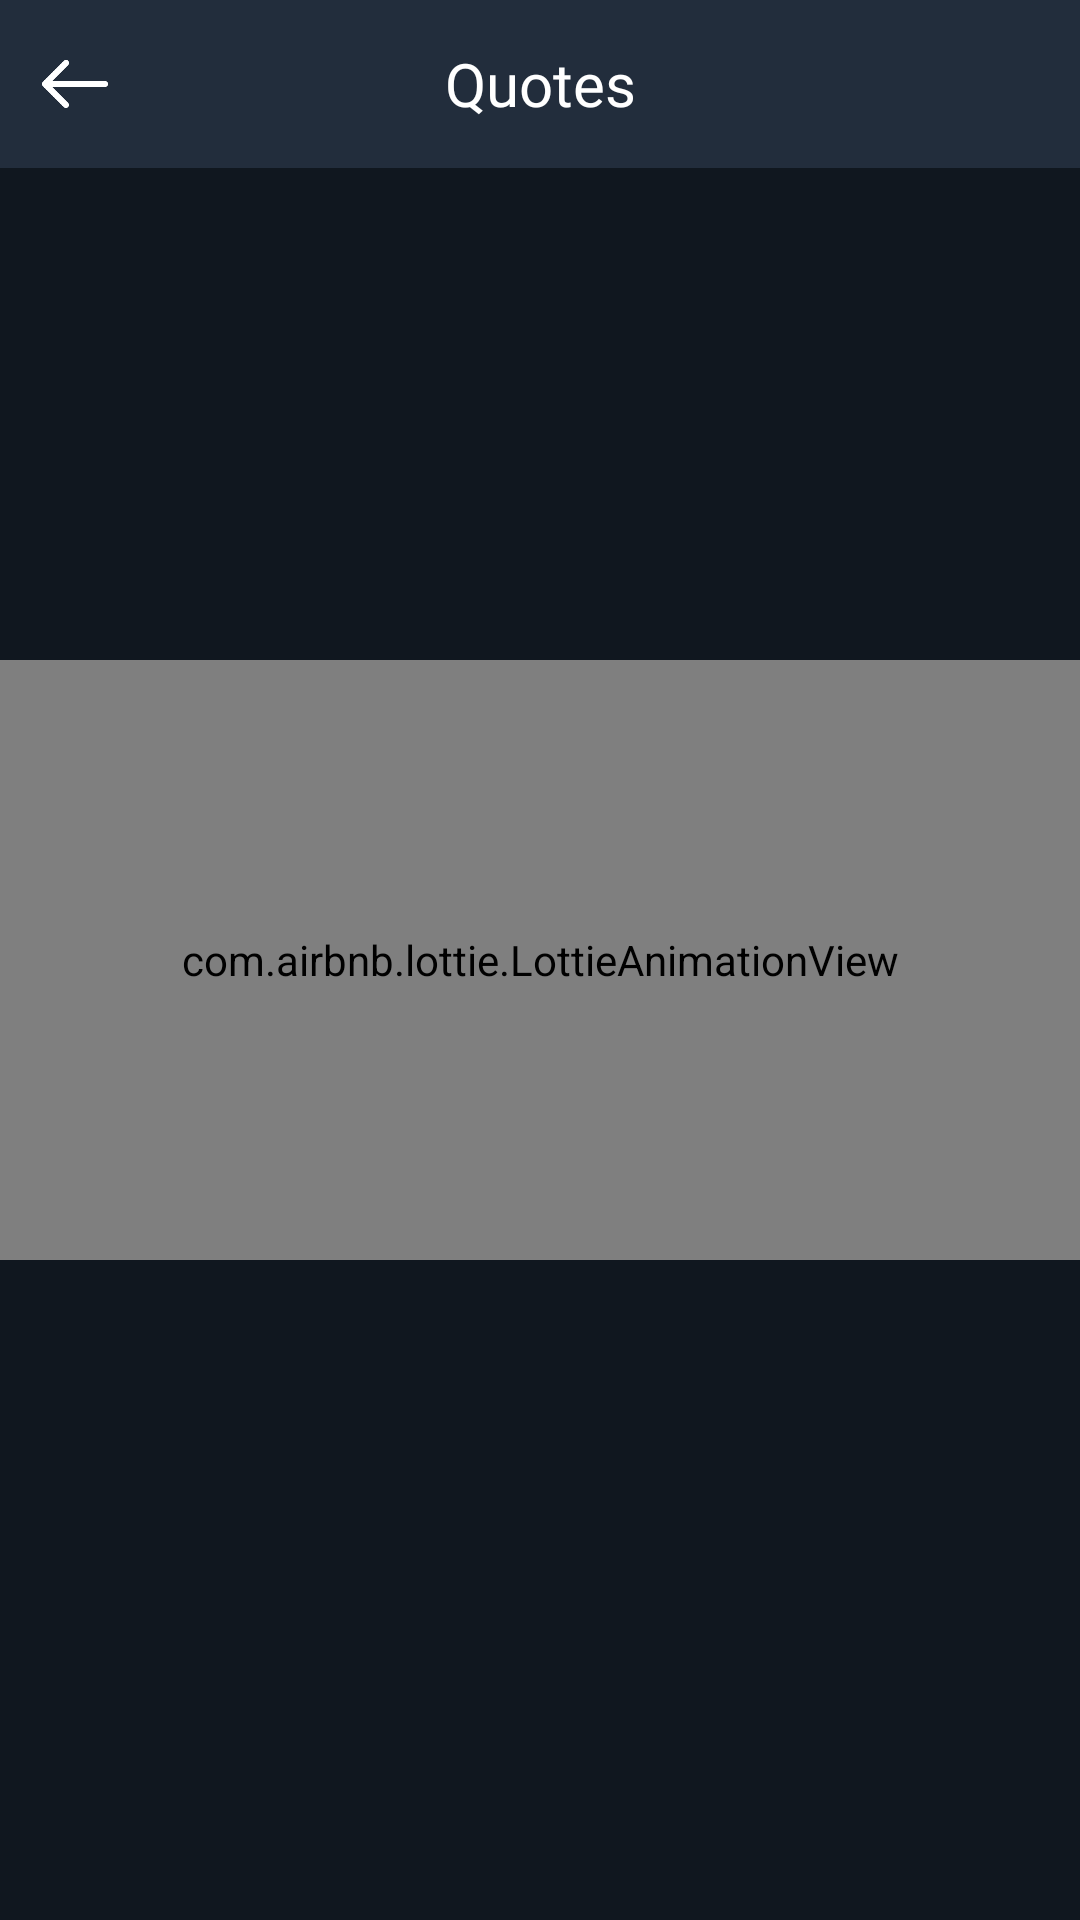

Icons on this 1080×1920 Android screen, each with the point to tap as (x=x, y=y):
back: (x=75, y=84)
